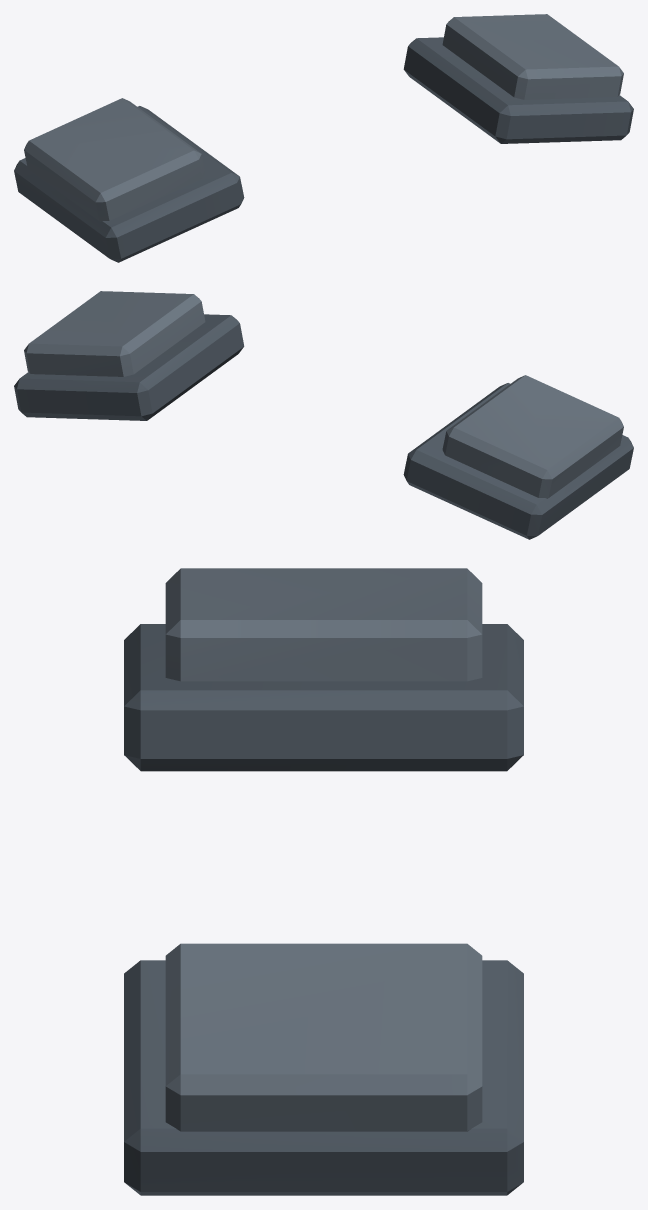
File: gear.torso.security_plates.glb
The picture shows the model from 3 angles, top to bottom: view 1: azimuth 30°, elevation 25°; view 2: azimuth 150°, elevation 25°; view 3: azimuth 270°, elevation 25°; orthographic projection. The views are drawn at different scales.
Visible parts, largest first — view 1: spine@security_plates.base; view 2: spine@security_plates.base; view 3: spine@security_plates.base.
Part boxes in pixels (bbox=[...]): spine@security_plates.base: bbox=[14, 14, 633, 262]; spine@security_plates.base: bbox=[14, 291, 633, 539]; spine@security_plates.base: bbox=[124, 568, 523, 1195].
Bounding box in the file's own units: 0.7324 × 0.1116 × 0.24.
